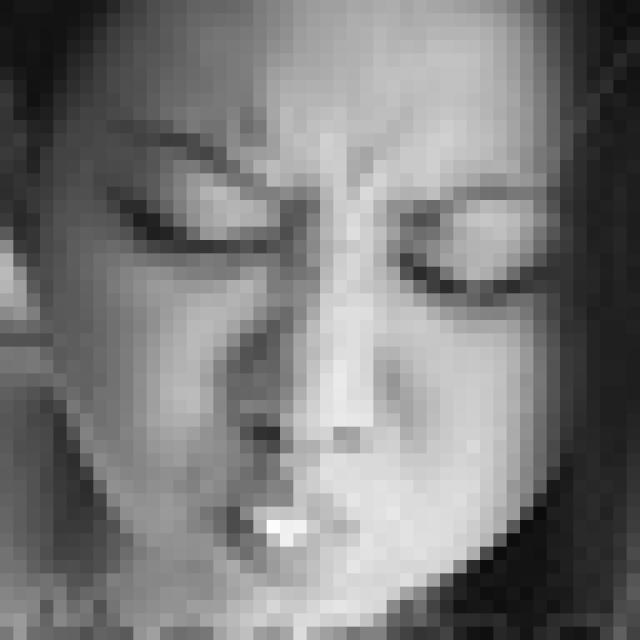disgust: (98, 113, 565, 594)
